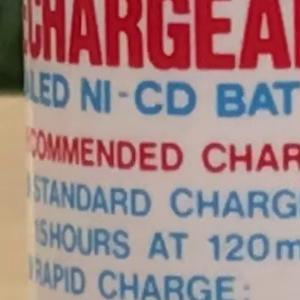keyword: (71, 71, 206, 123)
